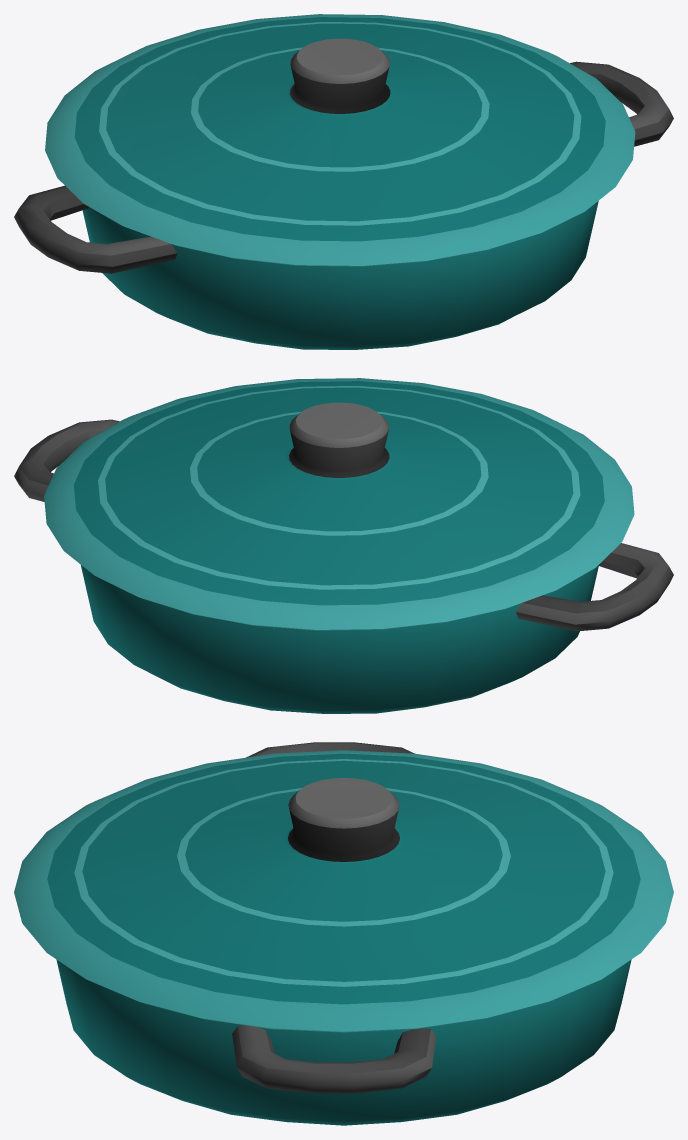
Rendered from Pan_20.fbx.
The picture shows the model from 3 angles, top to bottom: view 1: azimuth 30°, elevation 25°; view 2: azimuth 150°, elevation 25°; view 3: azimuth 270°, elevation 25°; orthographic projection. The views are drawn at different scales.
Visible parts, largest first — view 1: Pan_20 Top, Pan_20; view 2: Pan_20 Top, Pan_20; view 3: Pan_20 Top, Pan_20.
Boxes of the visible parts, left/top/right/bottom form: Pan_20 Top: left=45, top=14, right=635, bottom=266; Pan_20: left=14, top=61, right=673, bottom=349; Pan_20 Top: left=44, top=378, right=634, bottom=630; Pan_20: left=14, top=419, right=673, bottom=713; Pan_20 Top: left=14, top=750, right=673, bottom=1032; Pan_20: left=56, top=742, right=631, bottom=1125.
Bounding box in the file's own units: 0.3434 × 0.1038 × 0.2855.
Materials: 1 (1 with a texture image).
